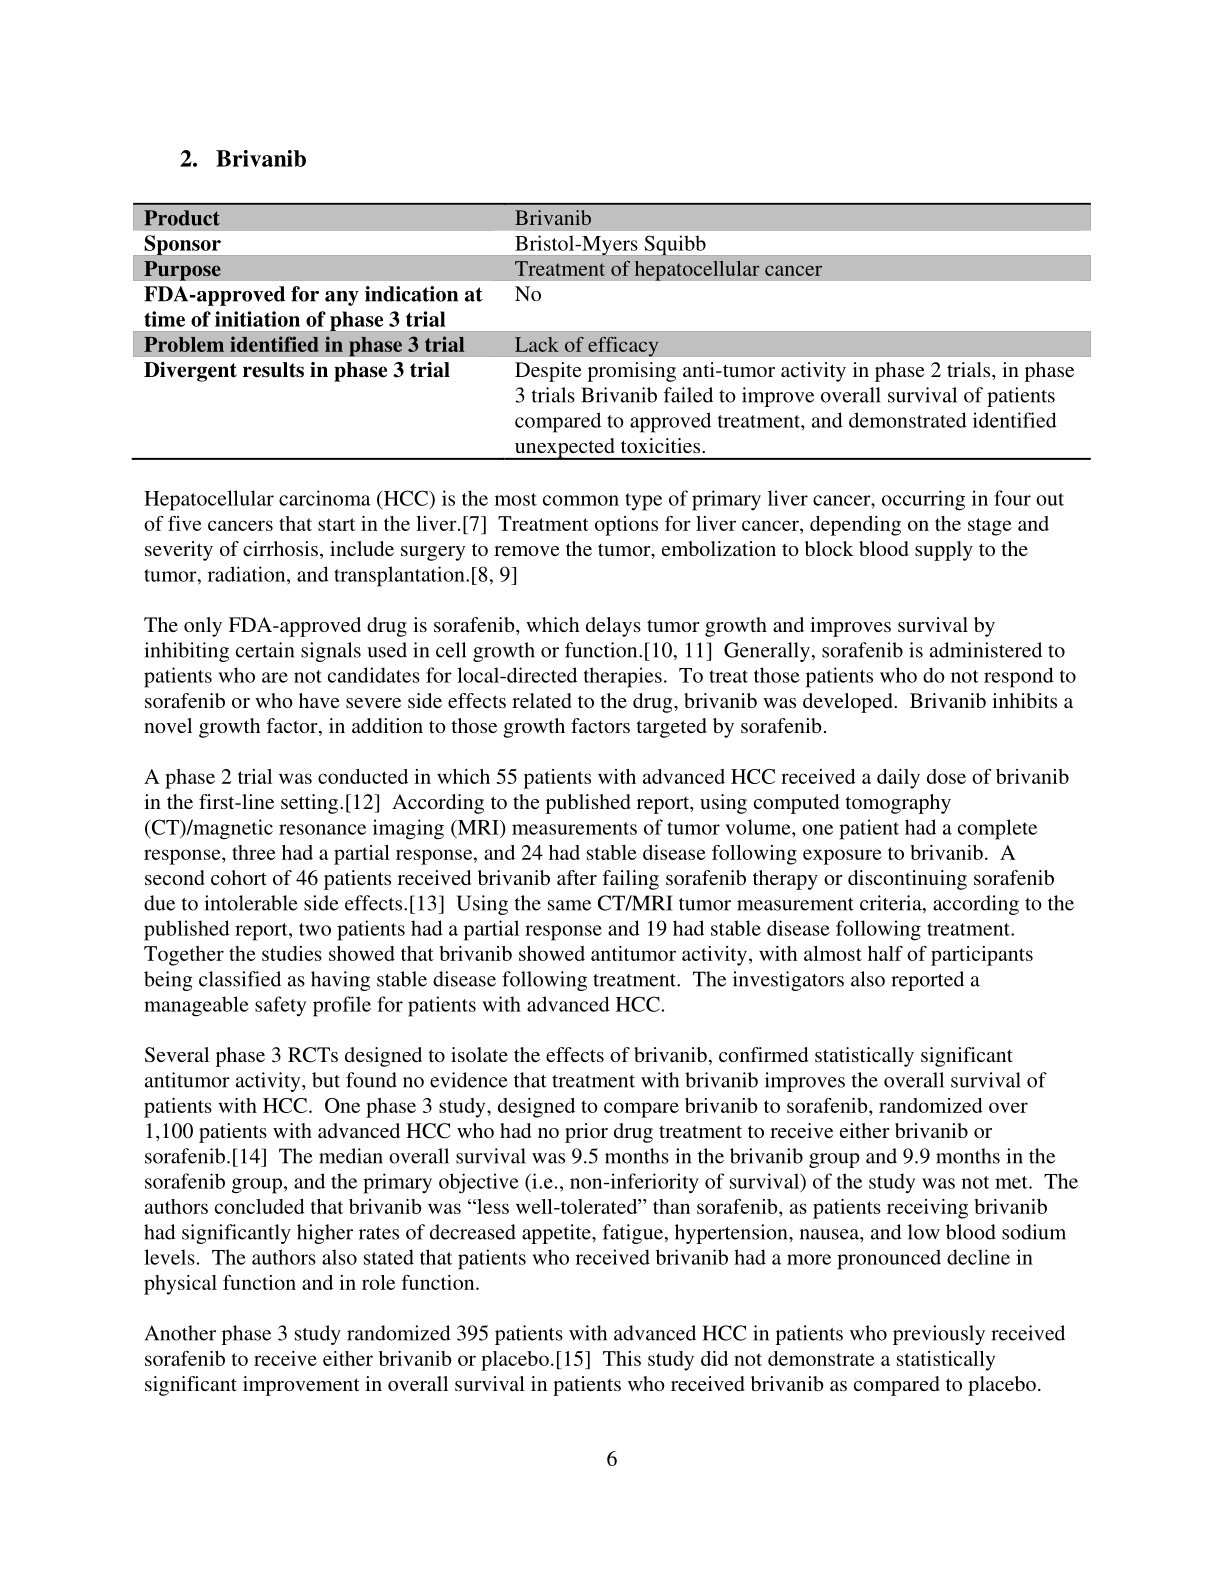partial_lined: (132, 201, 1093, 462)
